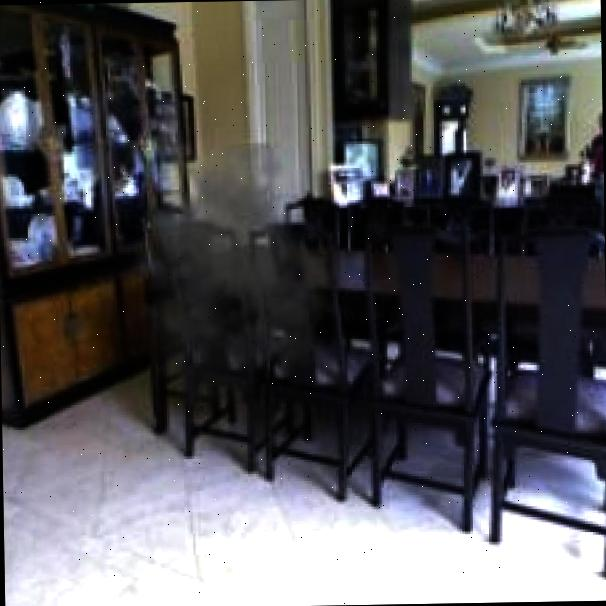smoke: (103, 142, 343, 413)
